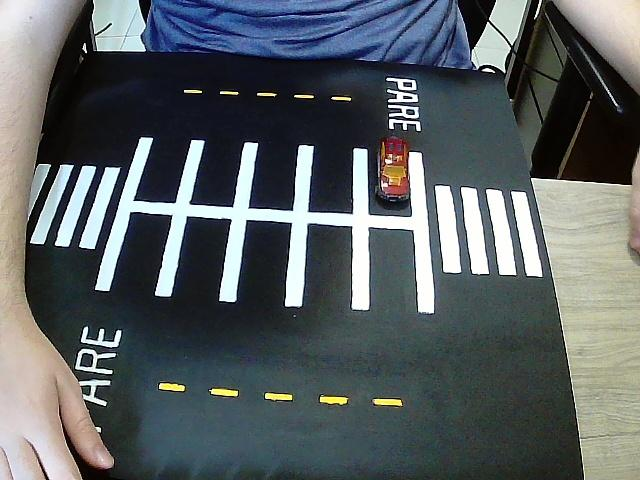Carro: (377, 138, 409, 203)
